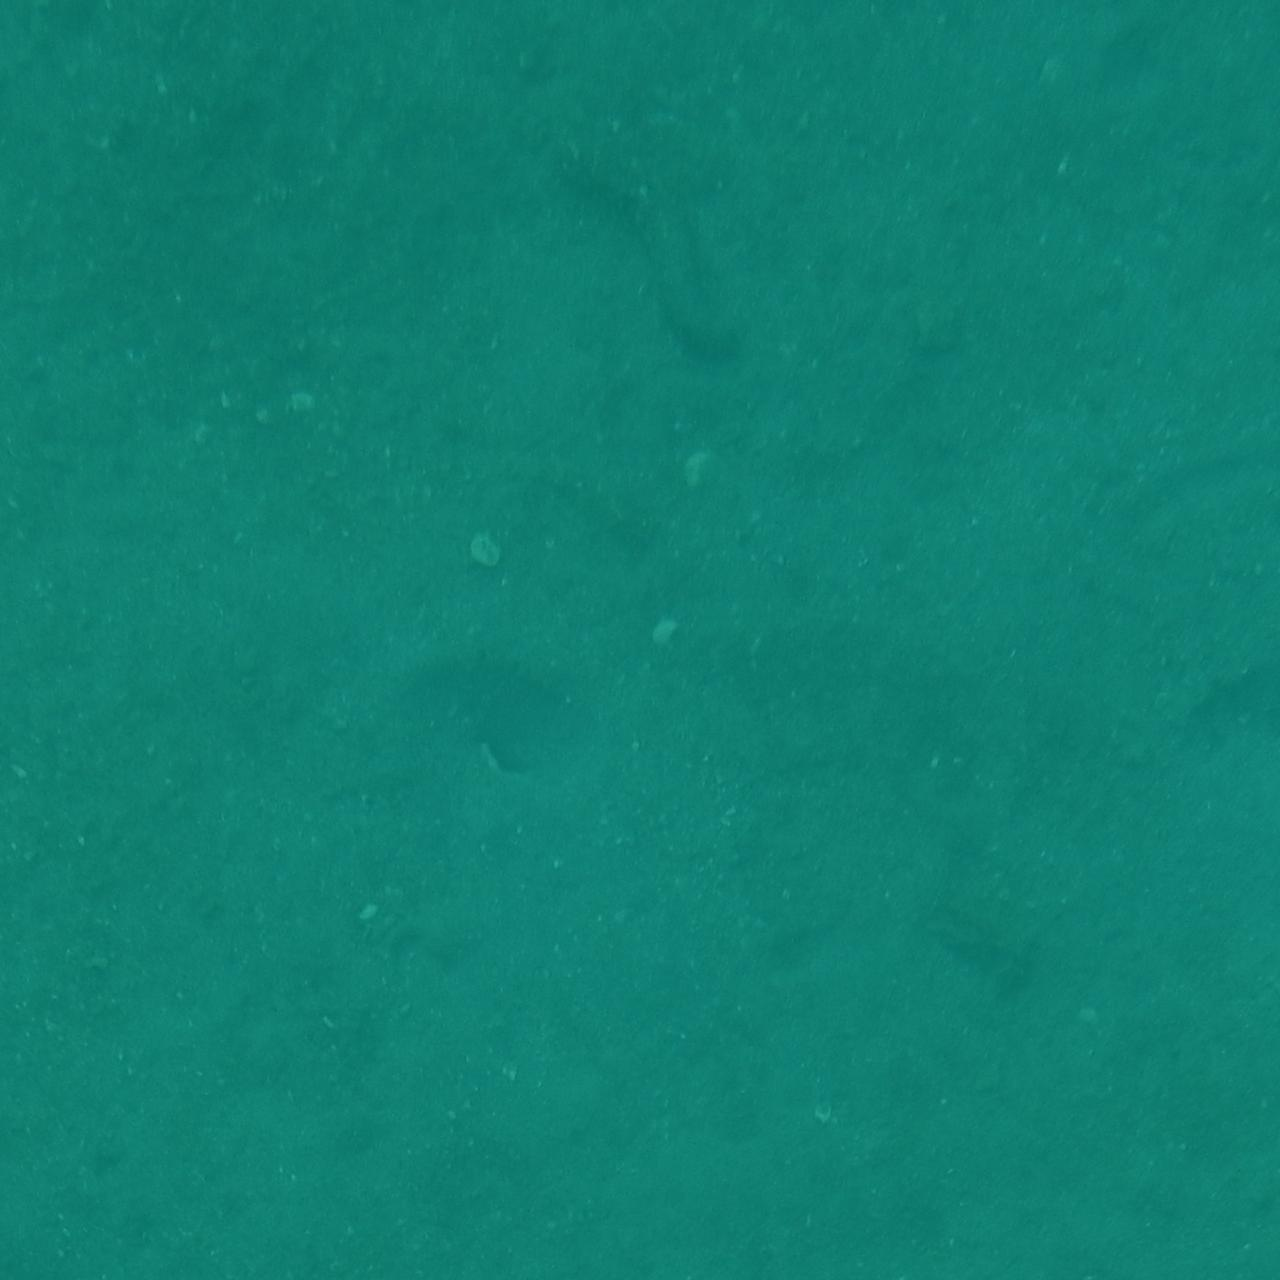Holothuria tubulosa: (522, 92, 758, 378)
